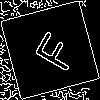F: (25, 25, 80, 75)
